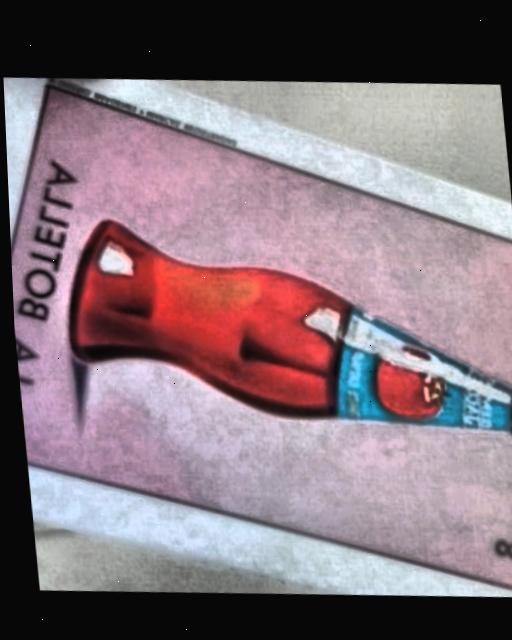La Botella: (8, 80, 512, 583)
